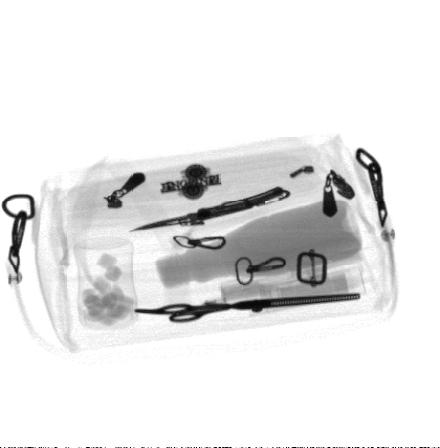Knife: (127, 185, 293, 232)
Scissors: (135, 293, 361, 322)
